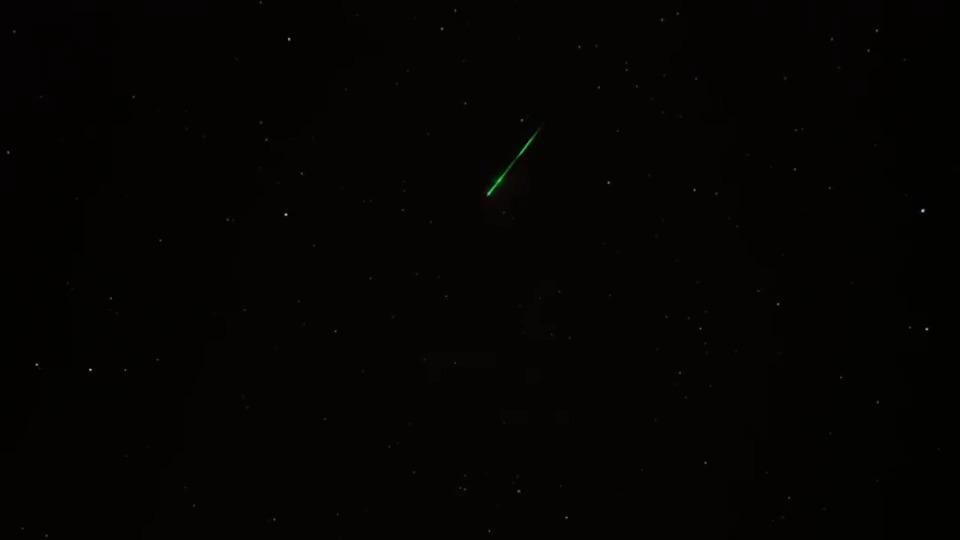meteorite: (480, 125, 557, 216)
